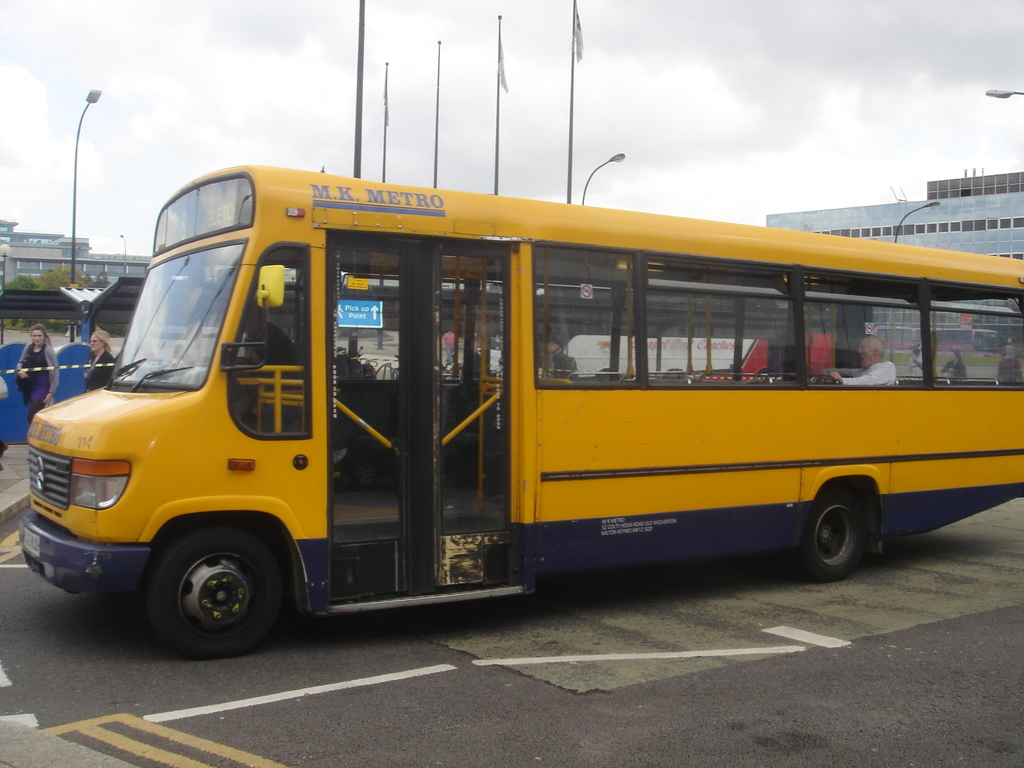Bus: (20, 162, 1022, 658)
